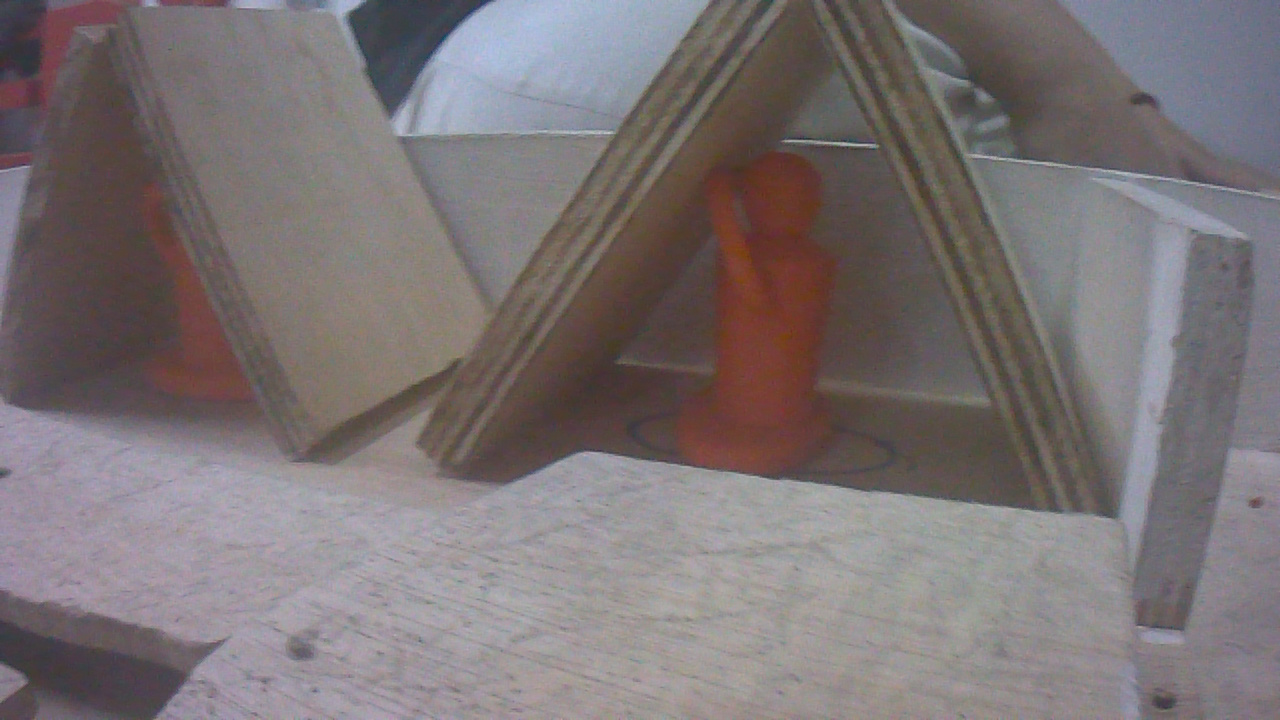real: (668, 144, 864, 471)
